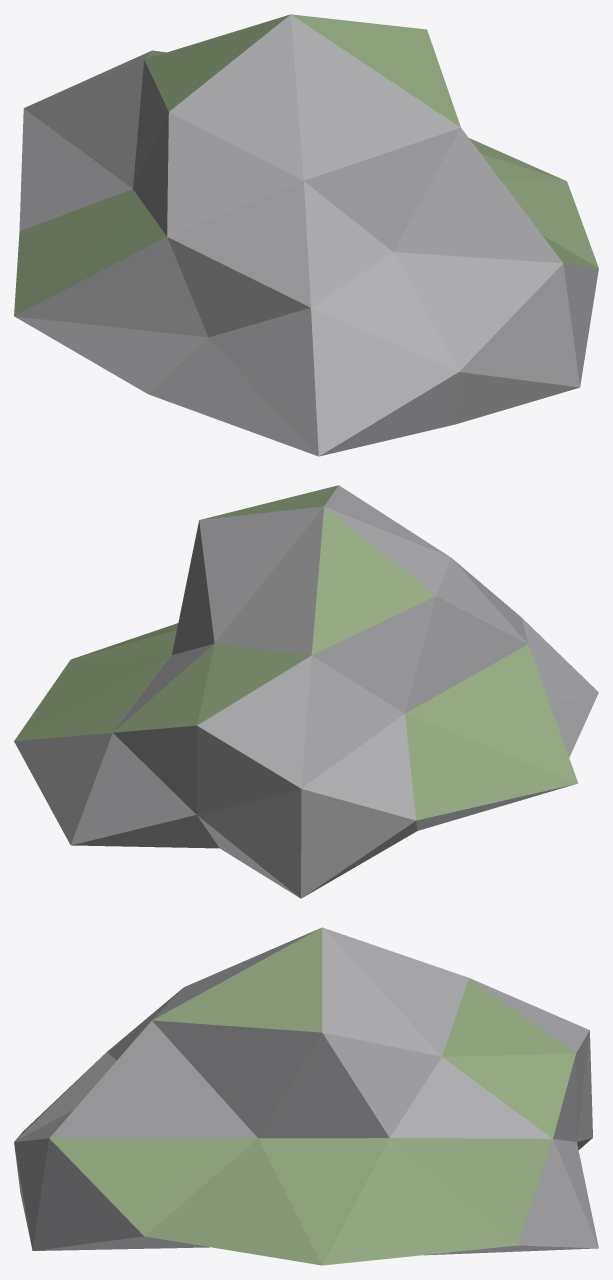
File: rock3.glb
3 renders of one model, top to bottom at view 1: azimuth 30°, elevation 25°; view 2: azimuth 150°, elevation 25°; view 3: azimuth 270°, elevation 25°, orthographic. The views are drawn at different scales.
Parts seen in each view (by area): view 1: rock3; view 2: rock3; view 3: rock3.
Boxes of the visible parts, <box> form: rock3: <box>14,14,598,456</box>; rock3: <box>14,485,598,898</box>; rock3: <box>14,927,598,1265</box>.
Size of the model in its own units: 2 by 1 by 2.
